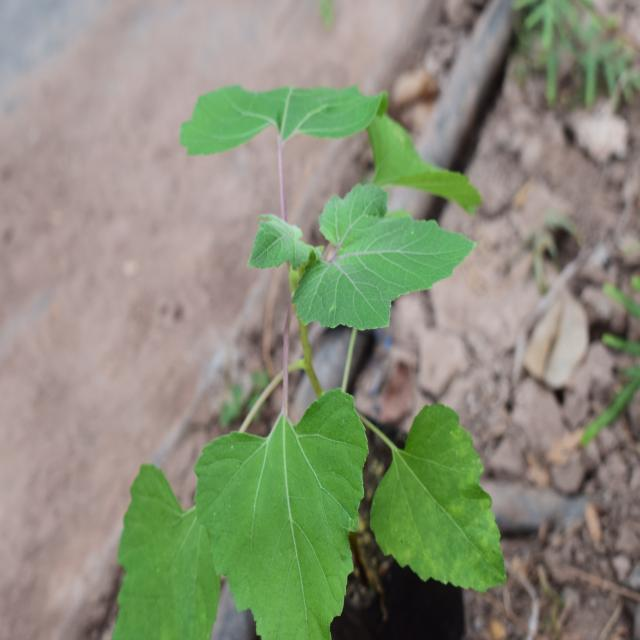cocklebur: (114, 63, 518, 619)
